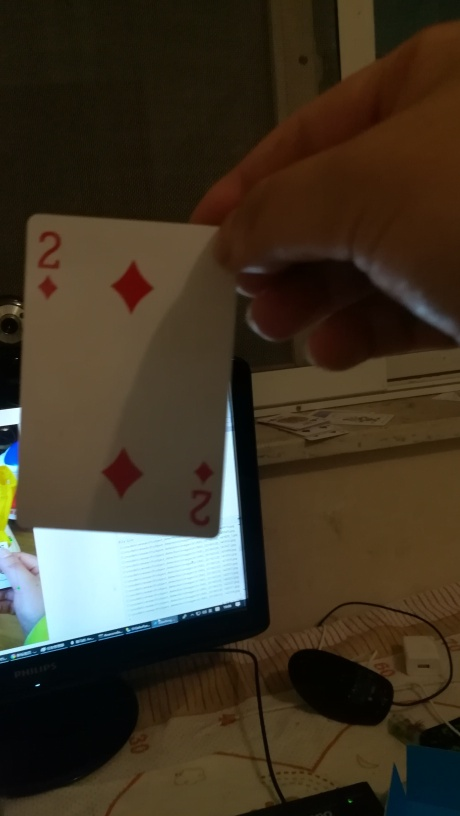fk 2: (13, 213, 249, 541)
